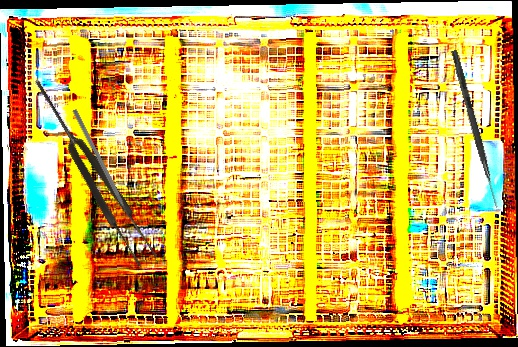Chopper: (66, 108, 134, 227)
Hook Surgical: (449, 49, 502, 209)
Tissue Forceps: (26, 72, 160, 271)
